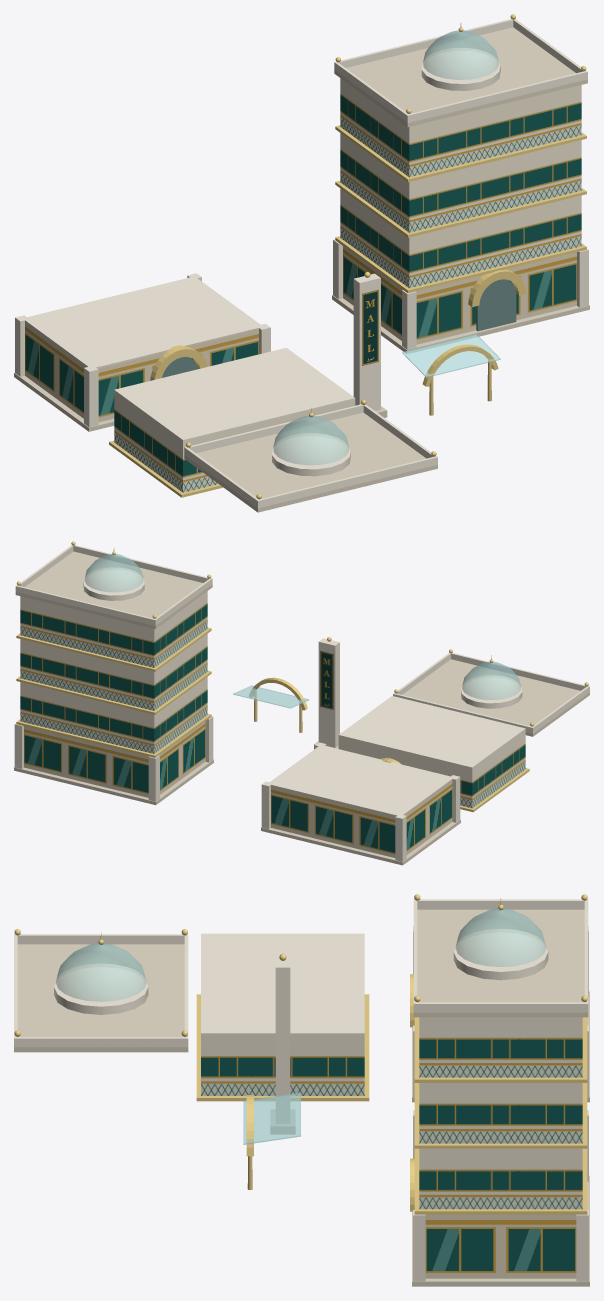
The model's file is kit-6-mall.glb.
The picture shows the model from 3 angles, top to bottom: view 1: azimuth 30°, elevation 25°; view 2: azimuth 150°, elevation 25°; view 3: azimuth 270°, elevation 25°; orthographic projection. The views are drawn at different scales.
Parts seen in each view (by area): view 1: Mall_Contoh_4Lantai, Mall_LantaiDasar, Mall_LantaiAtas, Mall_Atap, Mall_MenaraSign, Mall_Kanopi; view 2: Mall_Contoh_4Lantai, Mall_LantaiDasar, Mall_LantaiAtas, Mall_Atap, Mall_MenaraSign, Mall_Kanopi; view 3: Mall_Contoh_4Lantai, Mall_LantaiAtas, Mall_Atap, Mall_MenaraSign, Mall_Kanopi, Mall_LantaiDasar.
Boxes of the visible parts, x1,y1,x2,y2 form: Mall_Contoh_4Lantai: (332,14,589,353); Mall_LantaiDasar: (14,273,270,431); Mall_LantaiAtas: (109,347,355,497); Mall_Atap: (184,399,437,512); Mall_MenaraSign: (353,272,387,417); Mall_Kanopi: (402,334,500,415); Mall_Contoh_4Lantai: (14,541,213,805); Mall_LantaiDasar: (261,742,460,865); Mall_LantaiAtas: (338,696,529,812); Mall_Atap: (393,649,589,736); Mall_MenaraSign: (314,637,339,749); Mall_Kanopi: (233,677,309,732); Mall_Contoh_4Lantai: (410,894,589,1286); Mall_LantaiAtas: (196,933,369,1101); Mall_Atap: (14,929,188,1052); Mall_MenaraSign: (270,953,295,1134); Mall_Kanopi: (243,1092,300,1190); Mall_LantaiDasar: (410,926,589,1102).
Bounding box in the file's own units: 37.8 × 20.45 × 31.7.
Materials: 8 (3 with a texture image).
